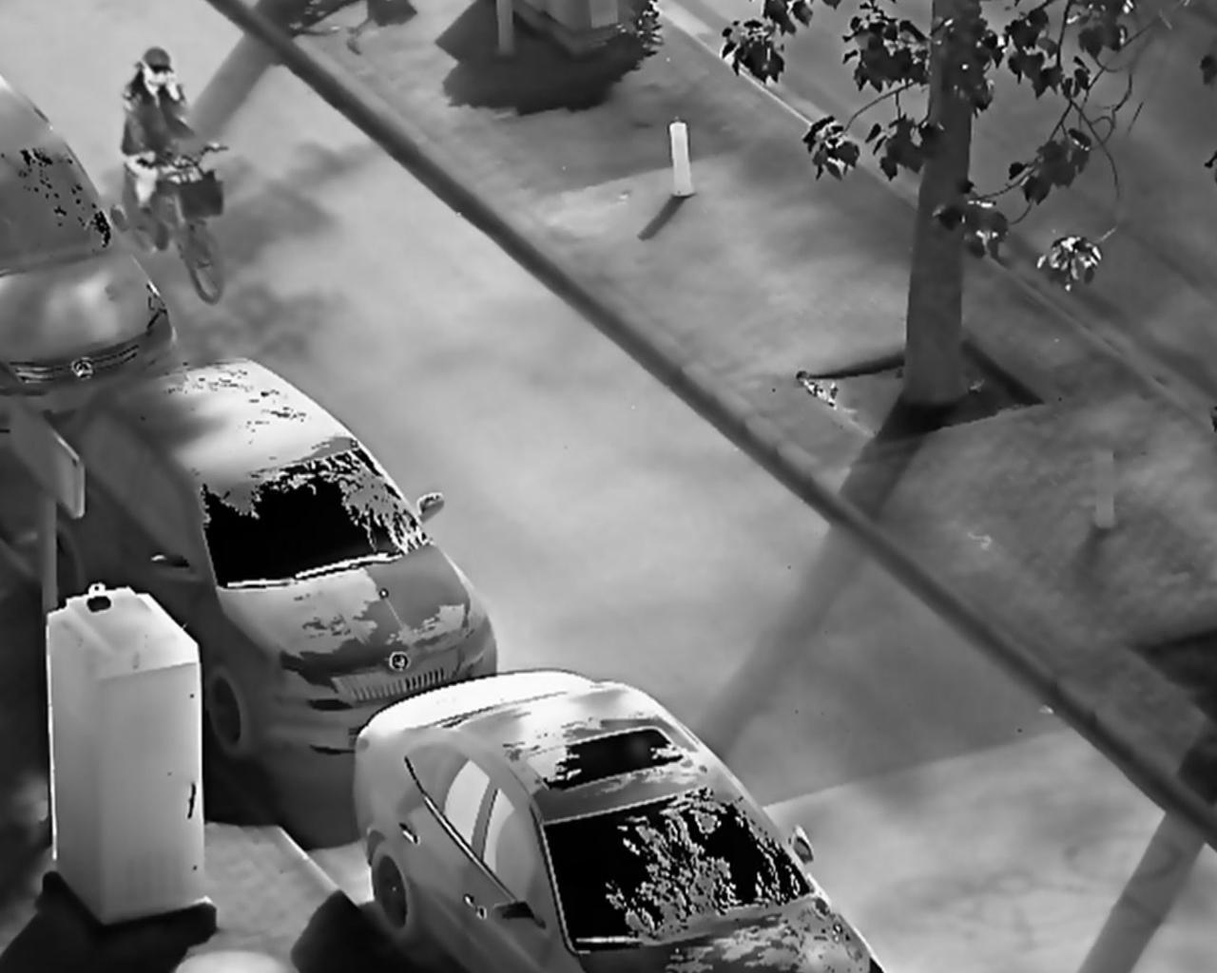person: (119, 47, 217, 251)
